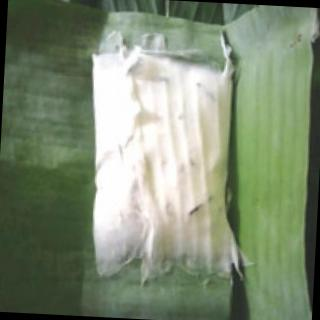Tempe: (79, 46, 246, 281)
